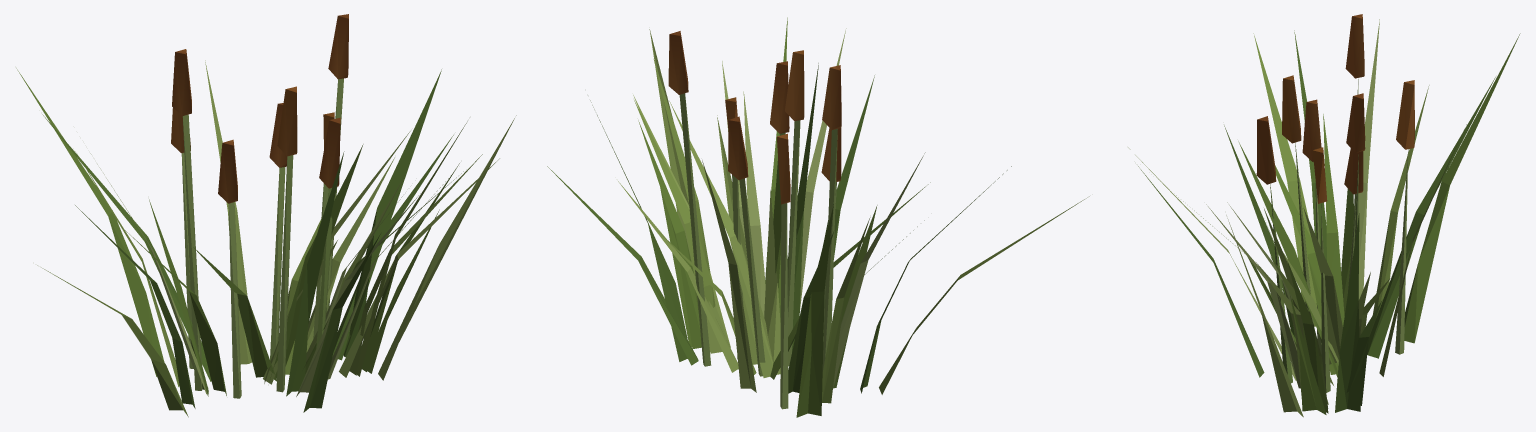
Rendered from river_cattails-lod1.glb.
3 views of the same model, side by side, from view 1: azimuth 30°, elevation 25°; view 2: azimuth 150°, elevation 25°; view 3: azimuth 270°, elevation 25° (orthographic). The views are drawn at different scales.
Visible parts, largest first — view 1: river_cattails; view 2: river_cattails; view 3: river_cattails.
Part boxes in pixels (left/top/right/bottom): river_cattails: left=16, top=14, right=516, bottom=417; river_cattails: left=547, top=17, right=1089, bottom=417; river_cattails: left=1128, top=14, right=1520, bottom=417.
Size of the model in its own units: 2.64 by 1.74 by 1.95.
